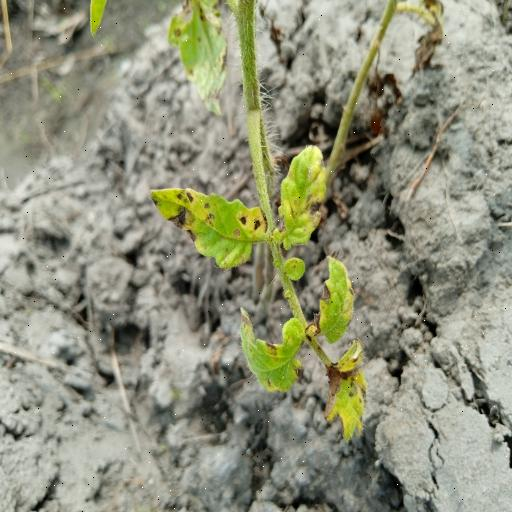Tomato_Brown_Spots: (146, 184, 272, 268)
